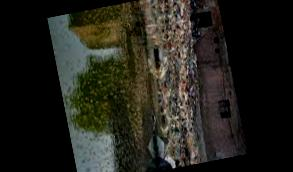Stagnant water: (45, 0, 180, 172)
Trash: (152, 0, 241, 166)
